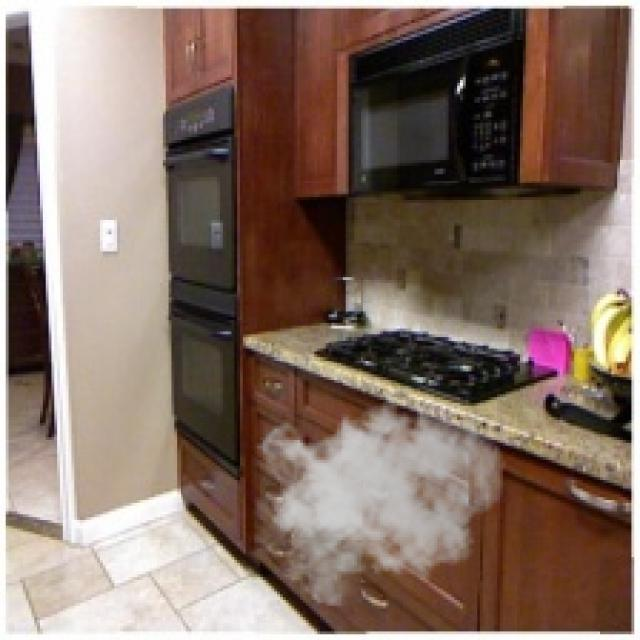smoke: (254, 383, 506, 606)
